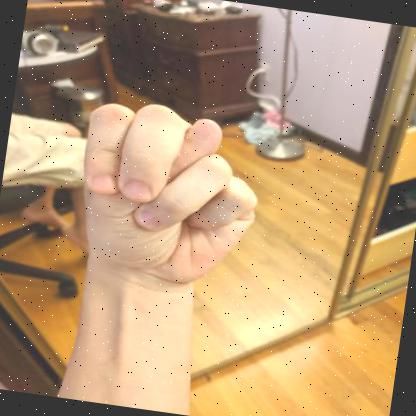N: (83, 103, 257, 289)
